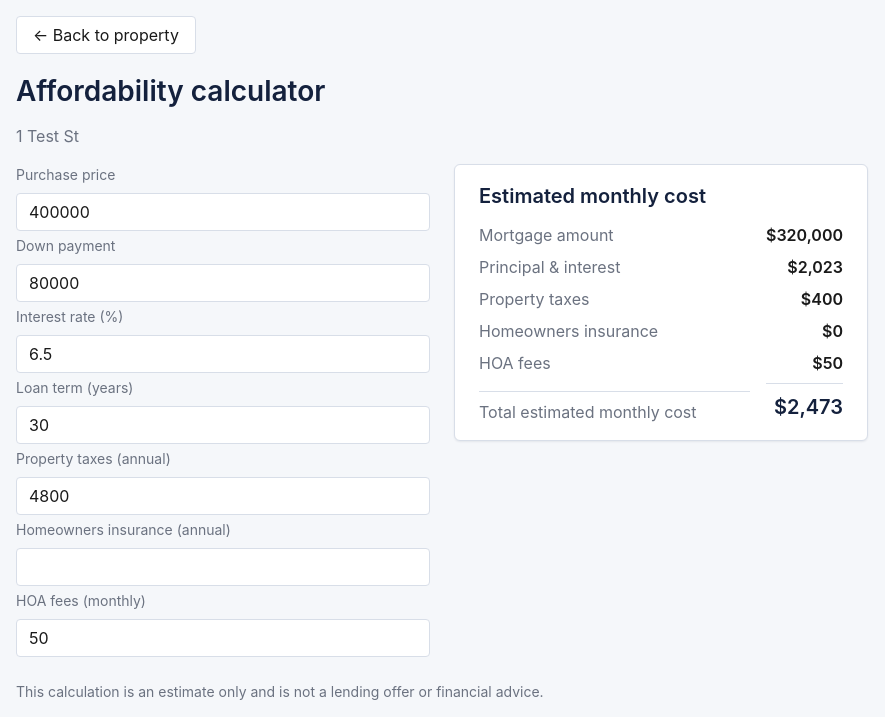
Scenario: AffordabilityCalculatorPage › shows a mortgage insurance line once the down payment is dropped below 20%
Check: the text "1 Test St" is shown, box x1=16 y1=126 x2=79 y2=146
Replace the text in the number field labelled "Down payment" with "20000". click: (223, 283)
box: x1=16 y1=264 x2=430 y2=302
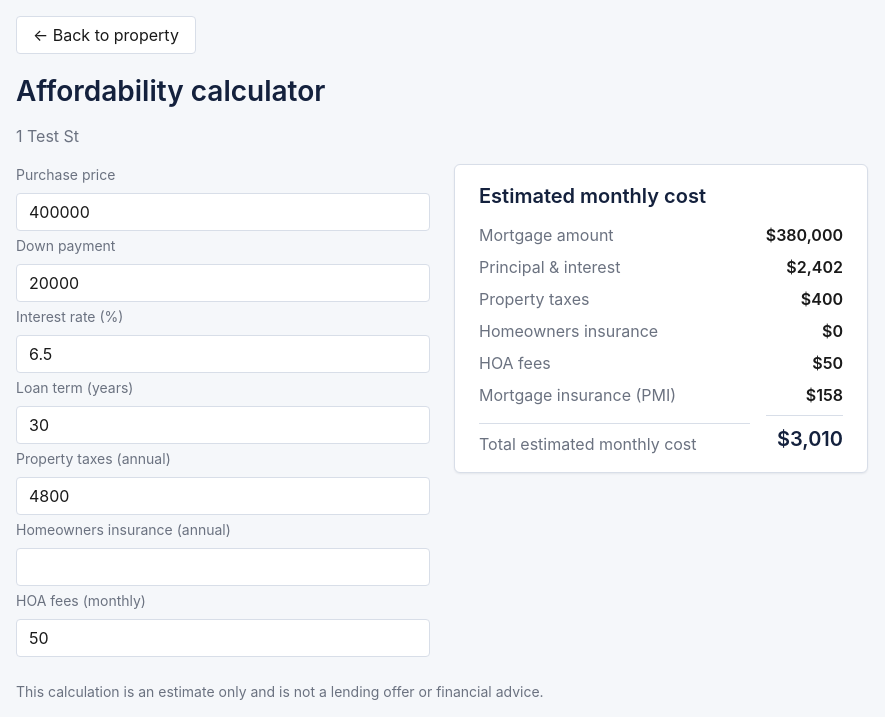
Check: the text "Mortgage insurance (PMI)" is shown, box x1=479 y1=385 x2=676 y2=405
